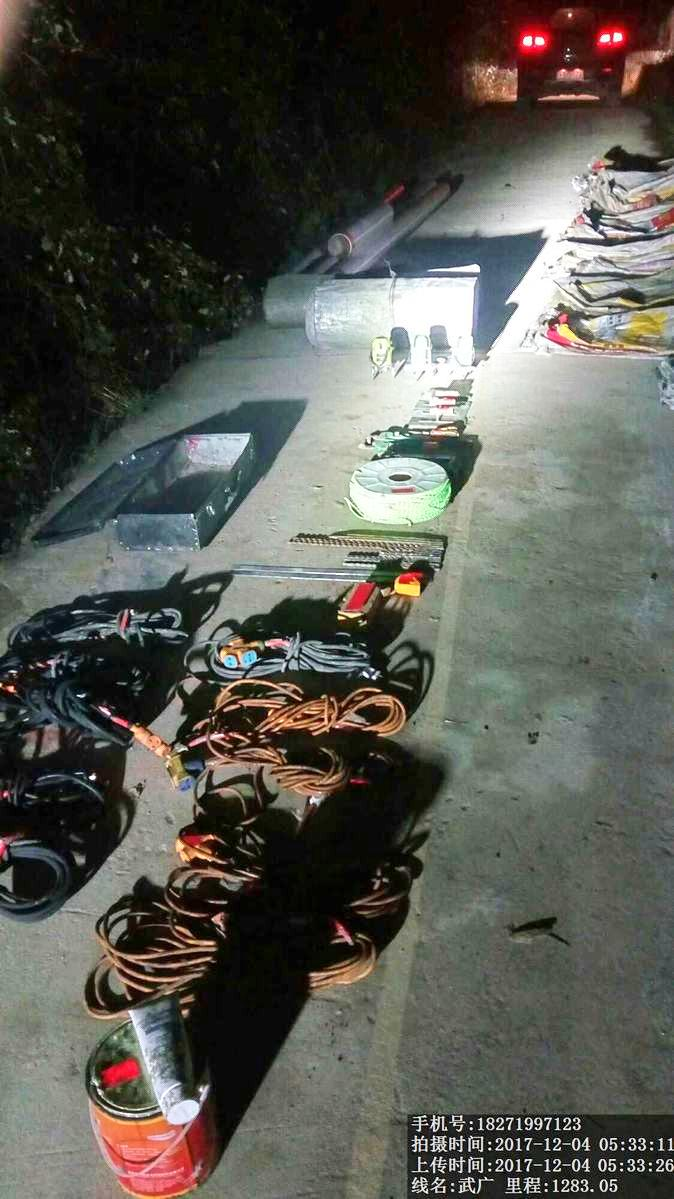BZD: (513, 301, 674, 372)
